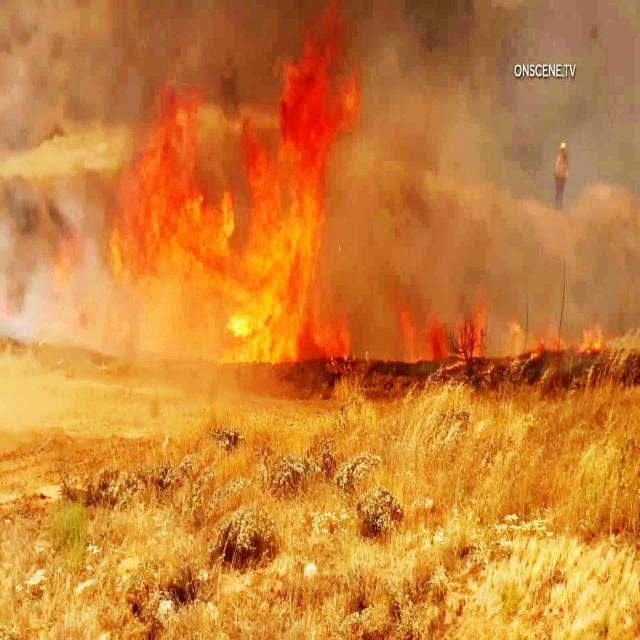Fire: (118, 28, 361, 340), (402, 291, 495, 374)
